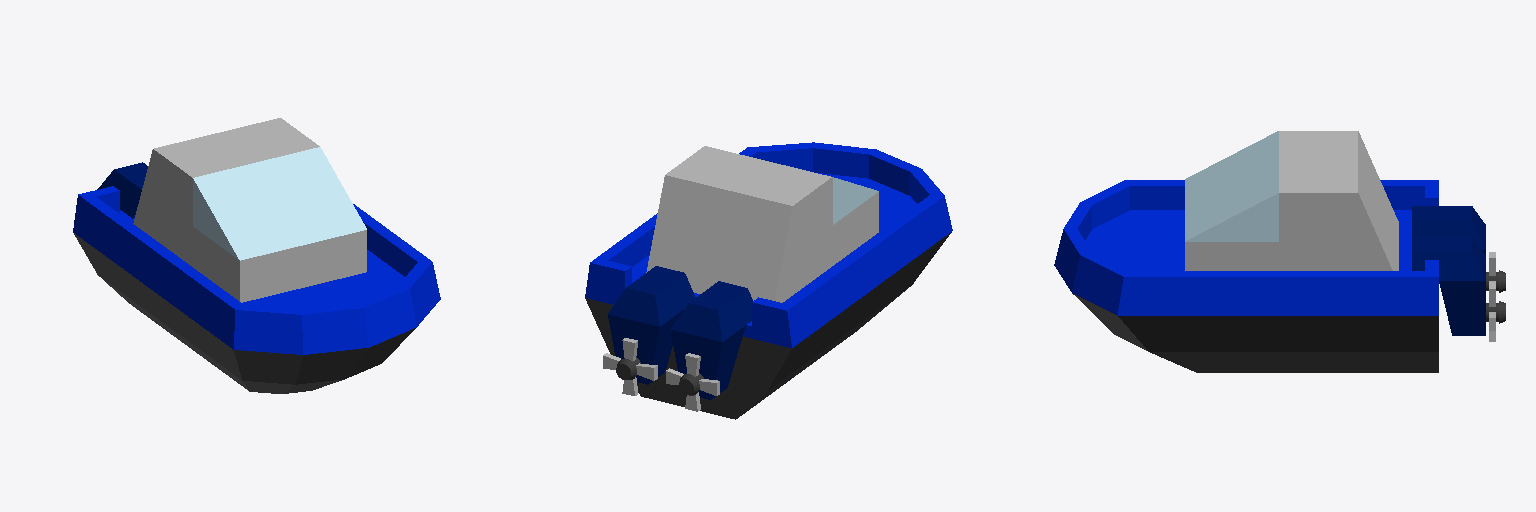
File: boat2.obj
The picture shows the model from 3 angles: view 1: azimuth 30°, elevation 25°; view 2: azimuth 150°, elevation 25°; view 3: azimuth 270°, elevation 25°; orthographic projection.
Parts seen in each view (by area): view 1: watercraftPack_009; view 2: watercraftPack_009; view 3: watercraftPack_009.
Part boxes in pixels (x1,y1,x2,y2): watercraftPack_009: (73,118,440,393); watercraftPack_009: (585,142,952,419); watercraftPack_009: (1054,131,1505,372).
Bounding box in the file's own units: 1.78 × 1.55 × 3.37.